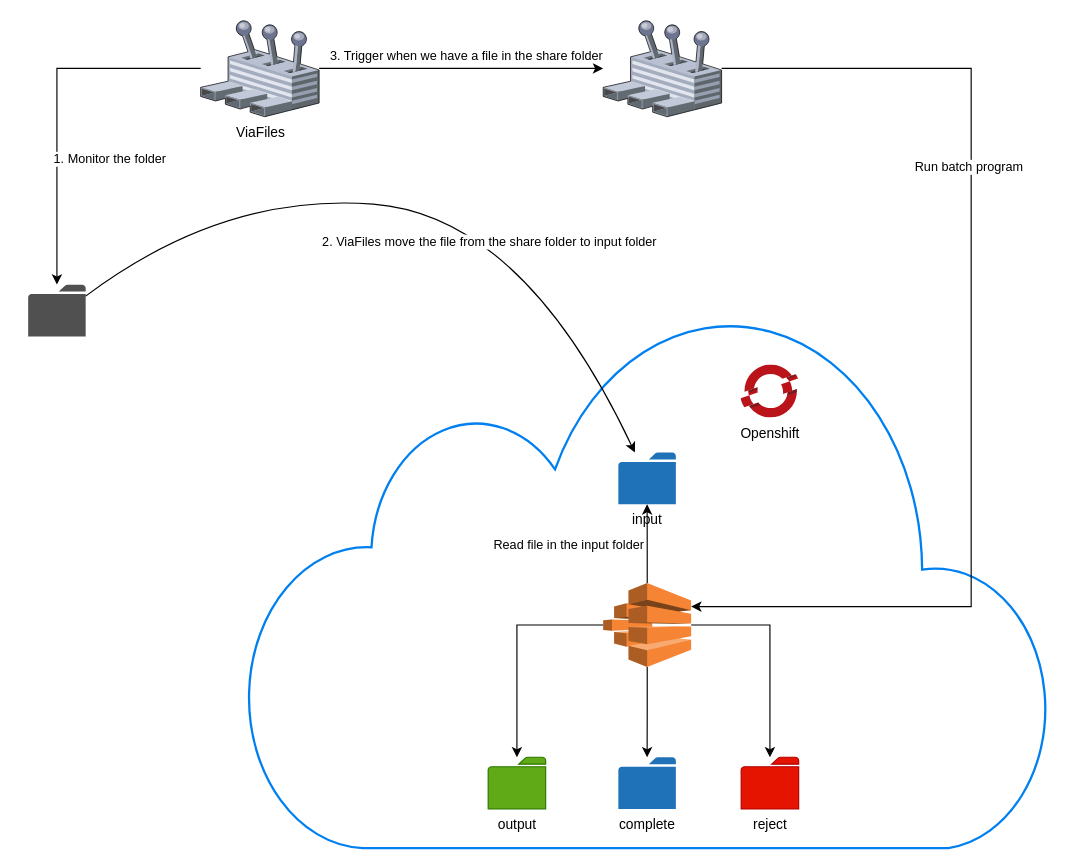
Some shapes in this 1073 by 868 pixel diagram are drawn without their labels. Here are the shapes that lost their labels. From the top down, the box of each, then its label:
(603, 20, 721, 116): Control-M
(28, 284, 85, 336): Share folder
(602, 582, 691, 667): batch-totemrapatriementautomation
